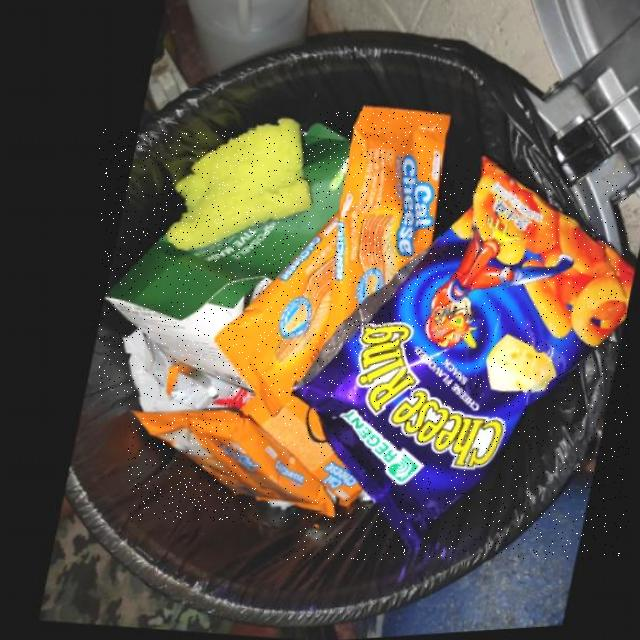paper: (99, 129, 343, 396), (117, 333, 248, 417)
wrapper: (286, 165, 629, 560), (318, 111, 441, 348), (208, 219, 332, 420), (129, 412, 332, 522), (237, 396, 359, 511)
